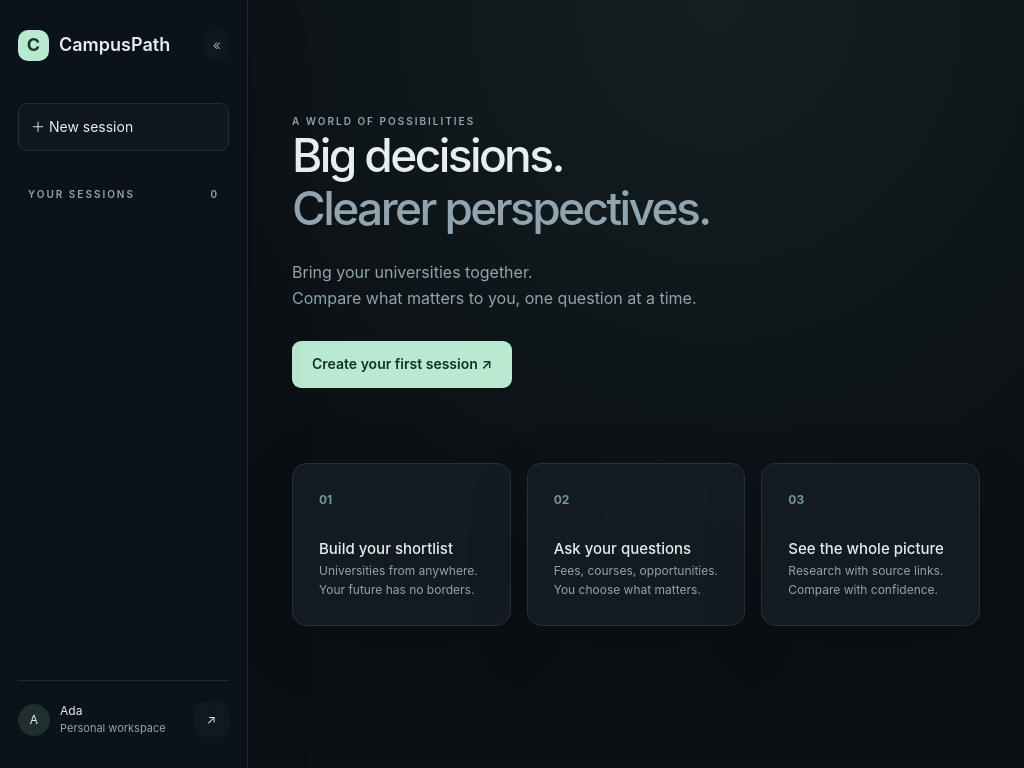
Test: sidebar collapse › remembers a collapsed sidebar
Click the button named "Collapse sidebar" at (217, 46), box [205, 30, 229, 61]
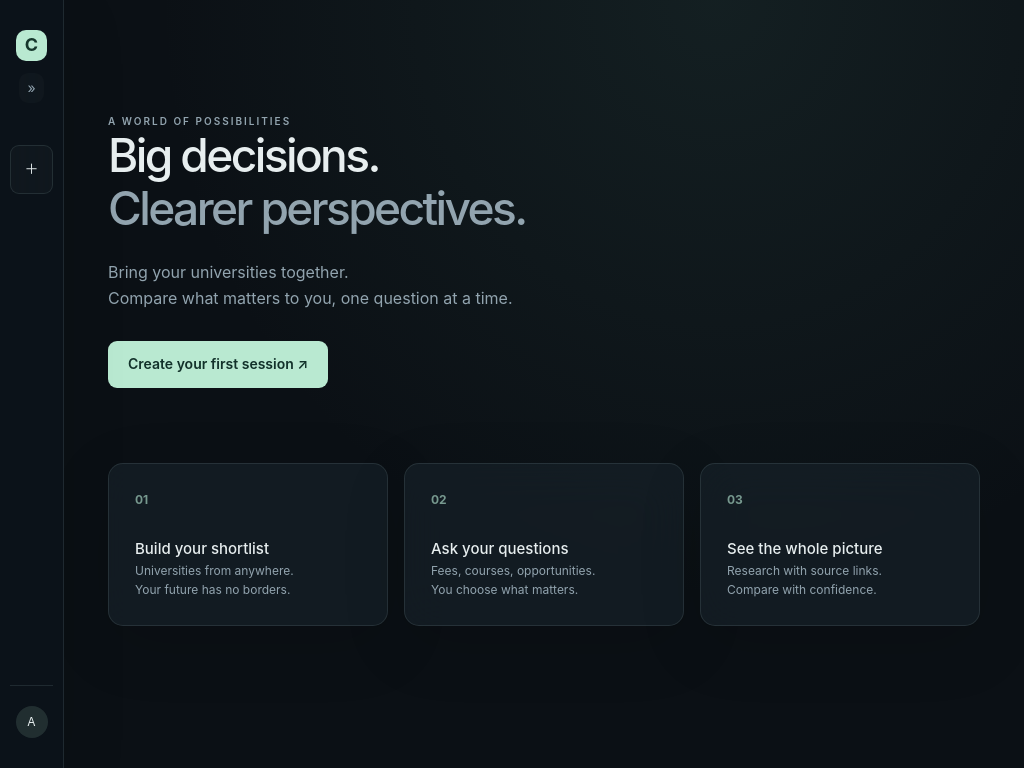
Expected: the button named "Expand sidebar" is collapsed, [19, 73, 44, 103]
